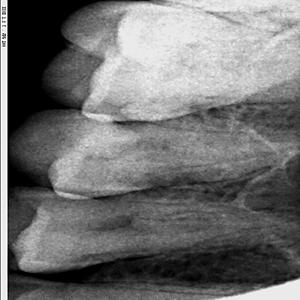tooth: (44, 0, 300, 120), (10, 110, 300, 198), (11, 191, 300, 273)
